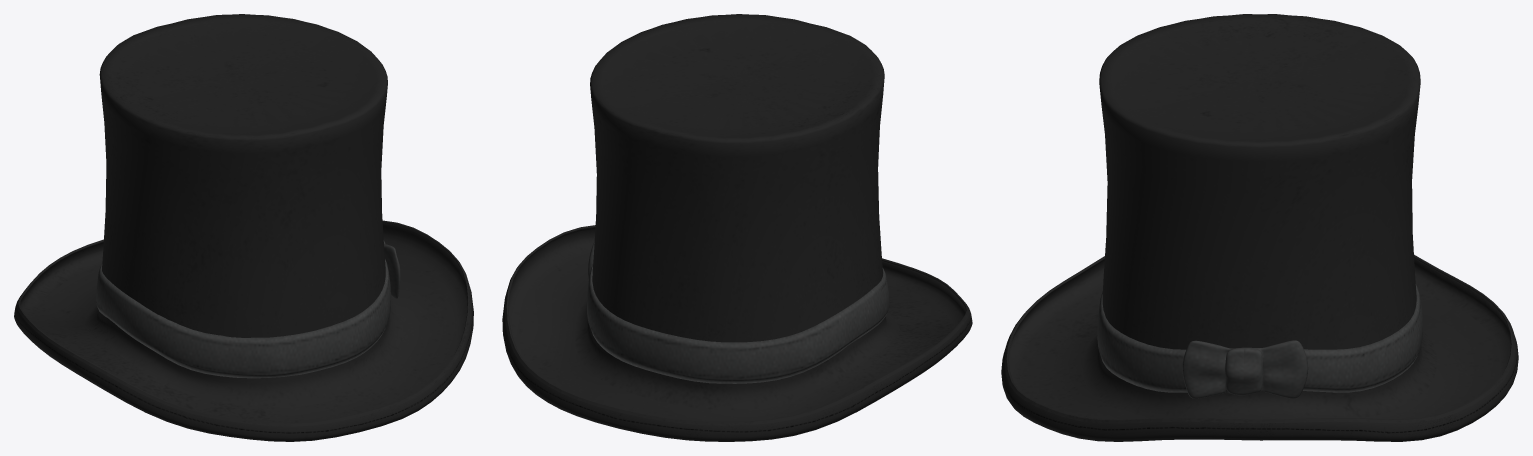
Rendered from hat.fbx.
3 renders of one model, left to right at view 1: azimuth 30°, elevation 25°; view 2: azimuth 150°, elevation 25°; view 3: azimuth 270°, elevation 25°, orthographic. The views are drawn at different scales.
Parts seen in each view (by area): view 1: Cylinder; view 2: Cylinder; view 3: Cylinder.
Boxes of the visible parts, x1,y1,x2,y2 form: Cylinder: [14, 14, 473, 441]; Cylinder: [502, 14, 972, 441]; Cylinder: [1001, 14, 1518, 441].
Size of the model in its own units: 770 by 509 by 793.
2 materials, 2 textured.
